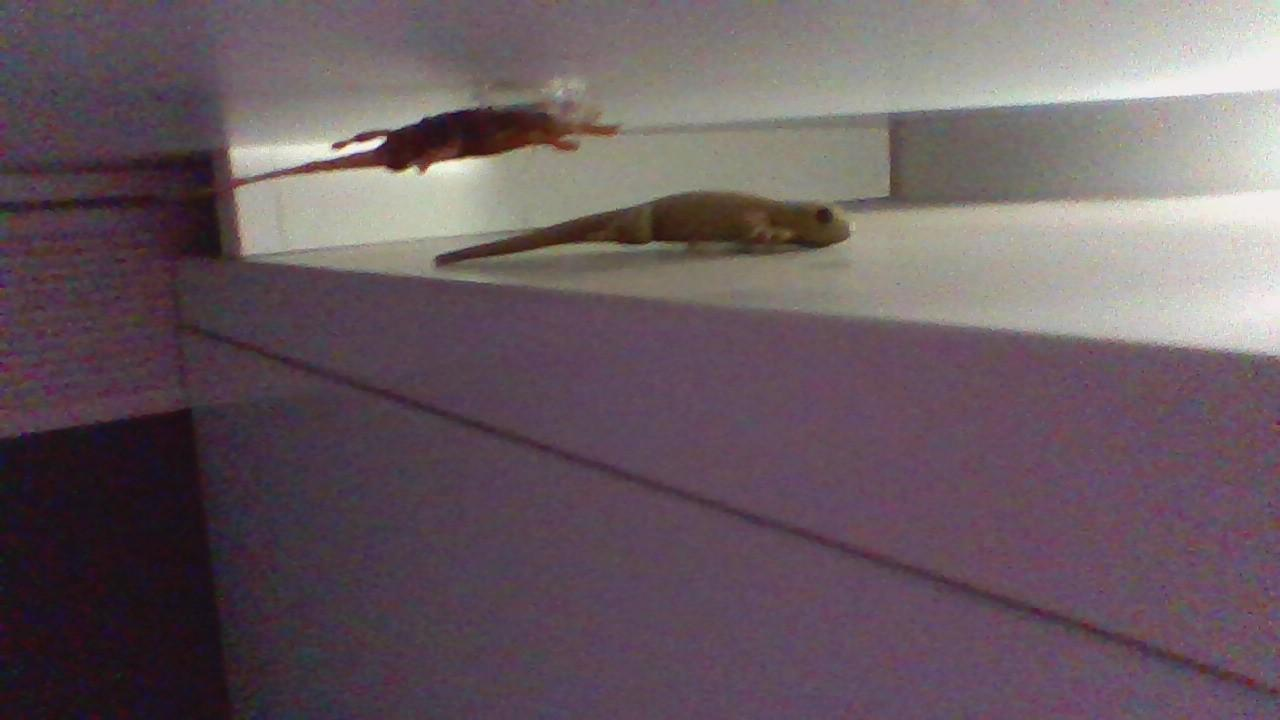cockroach: (215, 93, 632, 197)
lizard: (418, 183, 872, 299)
